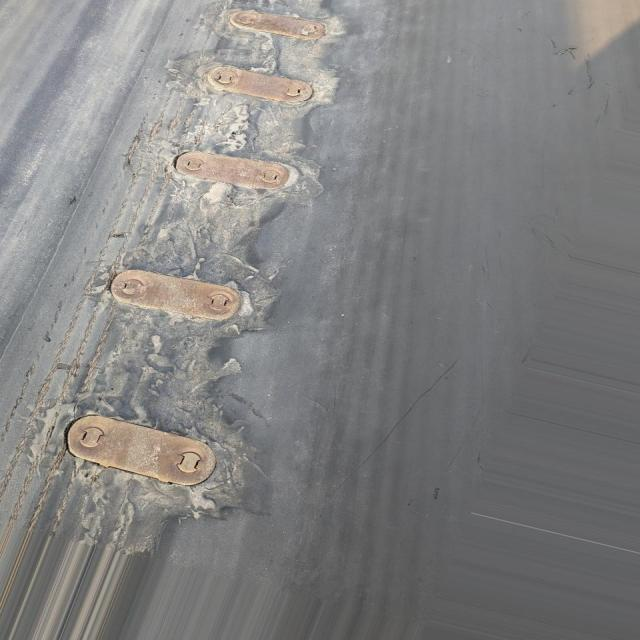patch work: (16, 0, 336, 516)
